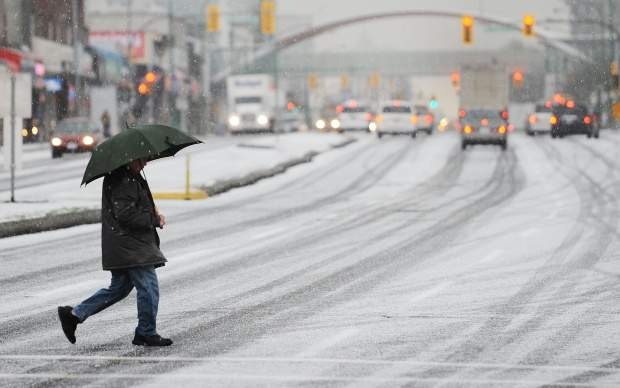car: (459, 109, 509, 153), (551, 102, 601, 140), (375, 99, 419, 138)
person: (58, 128, 200, 353)
traffic light: (458, 13, 475, 44), (522, 14, 536, 43)
truck: (227, 75, 280, 133)
